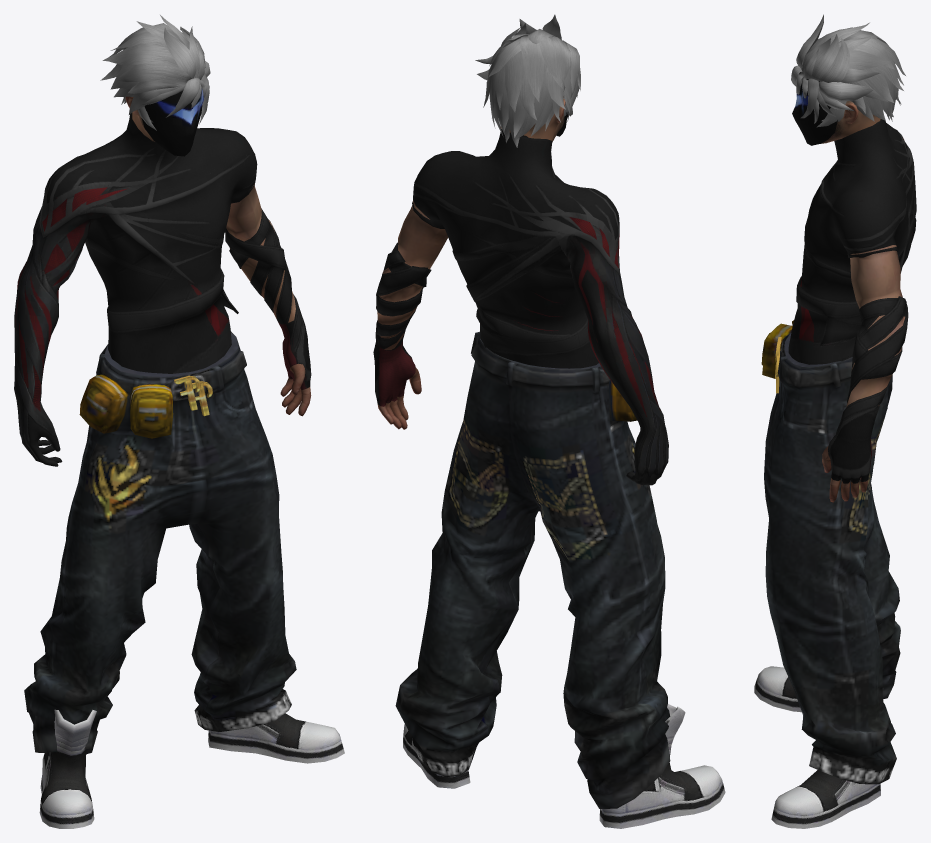
File: nxyy_ff.glb
3 views of the same model, side by side, from view 1: azimuth 30°, elevation 25°; view 2: azimuth 150°, elevation 25°; view 3: azimuth 270°, elevation 25° (orthographic). The views are drawn at different scales.
Parts seen in each view (by area): view 1: Mesh_0006.rip, Mesh_0007.rip, Mesh_0005.rip, Mesh_0023.rip, Mesh_0009.rip, Mesh_0008.rip; view 2: Mesh_0006.rip, Mesh_0007.rip, Mesh_0023.rip, Mesh_0005.rip, Mesh_0009.rip; view 3: Mesh_0006.rip, Mesh_0007.rip, Mesh_0023.rip, Mesh_0005.rip, Mesh_0009.rip, Mesh_0008.rip, Mesh_0009.rip.001.
Part boxes in pixels (box(x1,y1,x2,y2)): Mesh_0006.rip: box(24, 331, 296, 754); Mesh_0007.rip: box(14, 113, 311, 466); Mesh_0005.rip: box(39, 709, 344, 828); Mesh_0023.rip: box(100, 15, 210, 130); Mesh_0009.rip: box(226, 183, 311, 416); Mesh_0008.rip: box(141, 88, 203, 156); Mesh_0006.rip: box(395, 331, 670, 808); Mesh_0007.rip: box(373, 129, 668, 485); Mesh_0023.rip: box(475, 14, 580, 147); Mesh_0005.rip: box(403, 704, 725, 828); Mesh_0009.rip: box(377, 200, 447, 429); Mesh_0006.rip: box(761, 320, 900, 784); Mesh_0007.rip: box(788, 119, 916, 483); Mesh_0023.rip: box(791, 14, 905, 127); Mesh_0005.rip: box(754, 666, 880, 828); Mesh_0009.rip: box(822, 245, 905, 502); Mesh_0008.rip: box(792, 72, 837, 145); Mesh_0009.rip.001: box(820, 101, 880, 143).
Size of the model in its own units: 5.25 by 12.66 by 2.52.
Materials: 6 (6 with a texture image).
